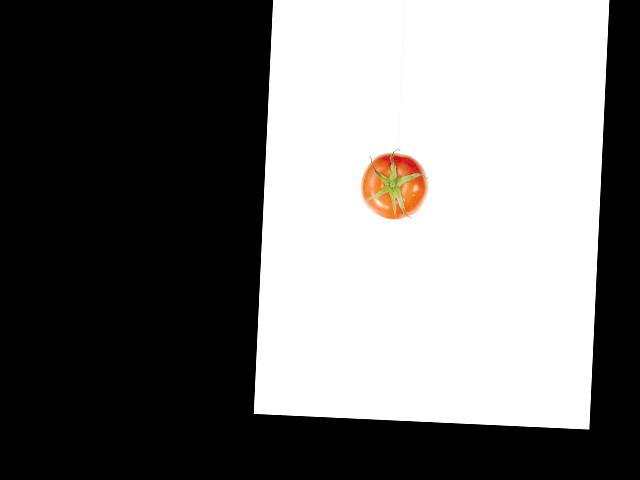tomato: (359, 151, 429, 221)
